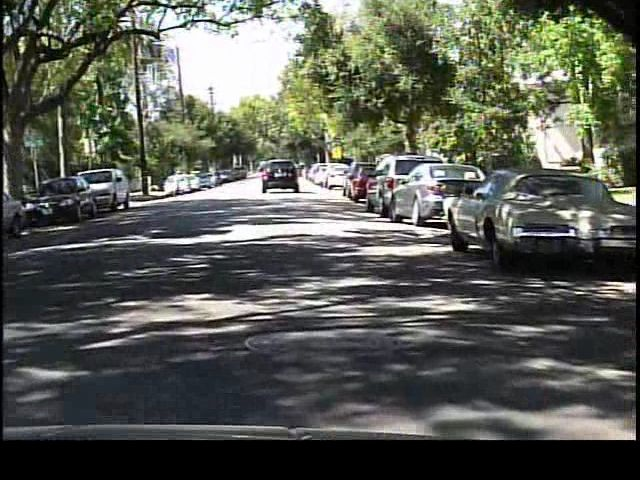person: (171, 168, 188, 200)
